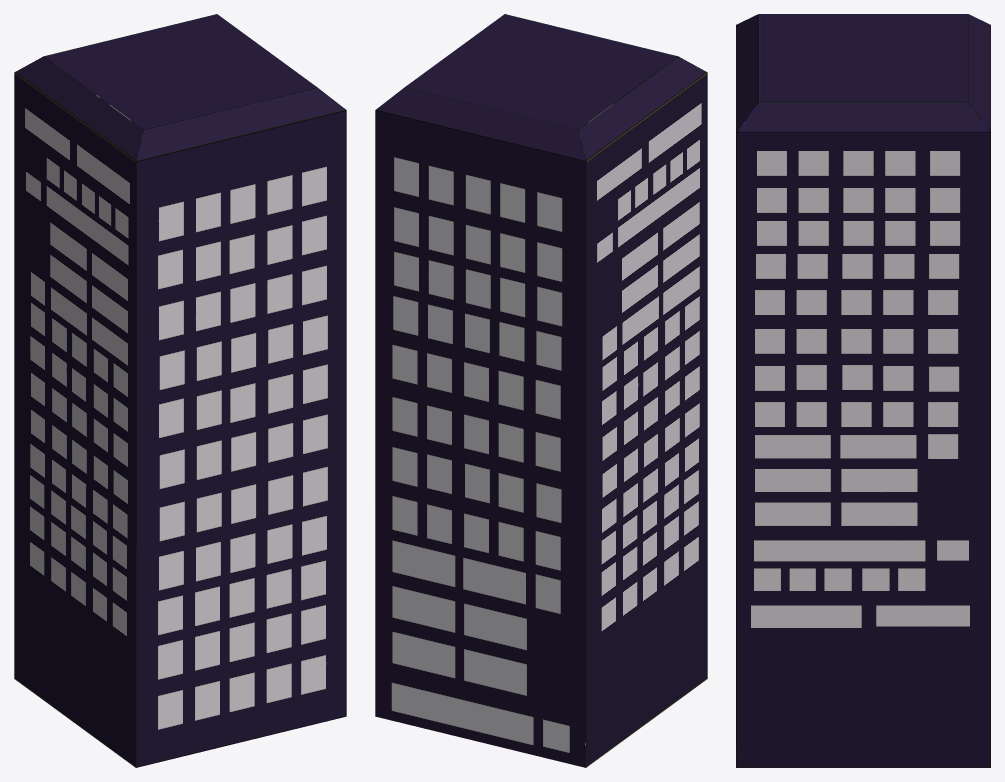
File: skyscraper_mothefucker.obj
3 views of the same model, side by side, from view 1: azimuth 30°, elevation 25°; view 2: azimuth 150°, elevation 25°; view 3: azimuth 270°, elevation 25° (orthographic). The views are drawn at different scales.
Visible parts, largest first — view 1: Cube; view 2: Cube; view 3: Cube.
Part boxes in pixels (x1,y1,x2,y2): Cube: (14,14,346,767); Cube: (375,14,707,767); Cube: (736,14,990,767).
Bounding box in the file's own units: 4.97 × 14.12 × 4.97.
